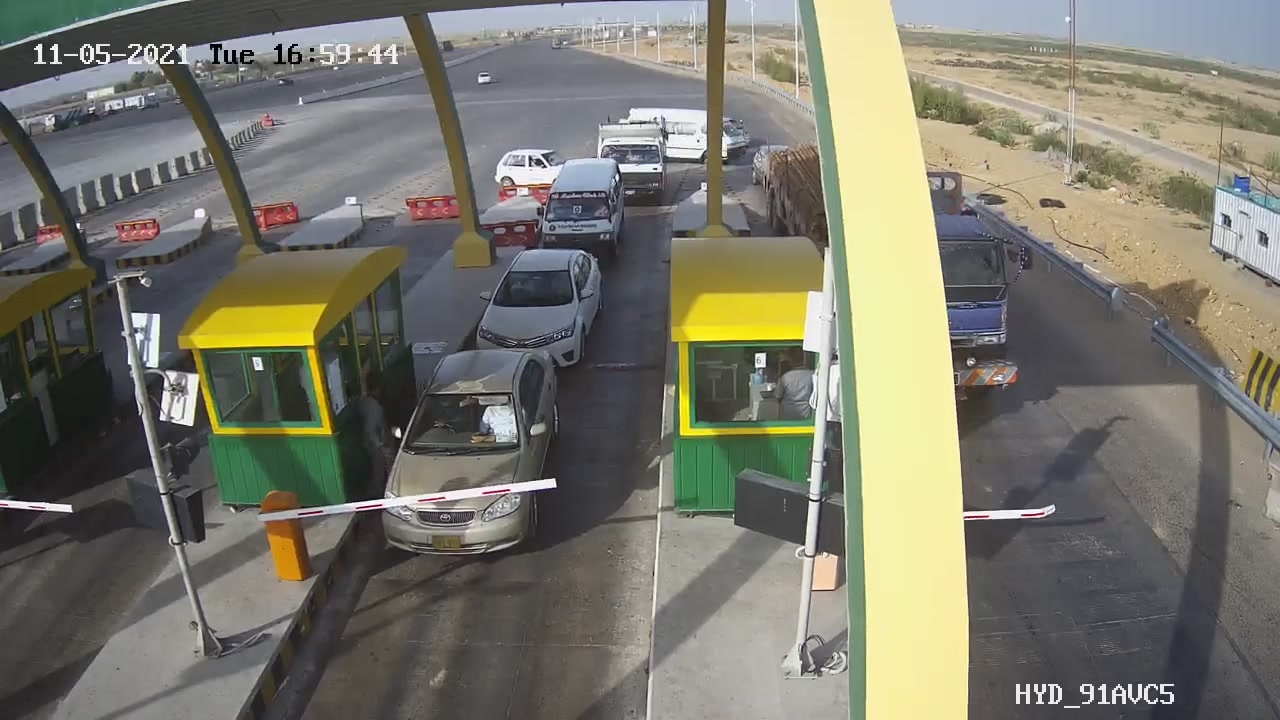F1: (367, 336, 588, 579), (461, 237, 618, 389)
